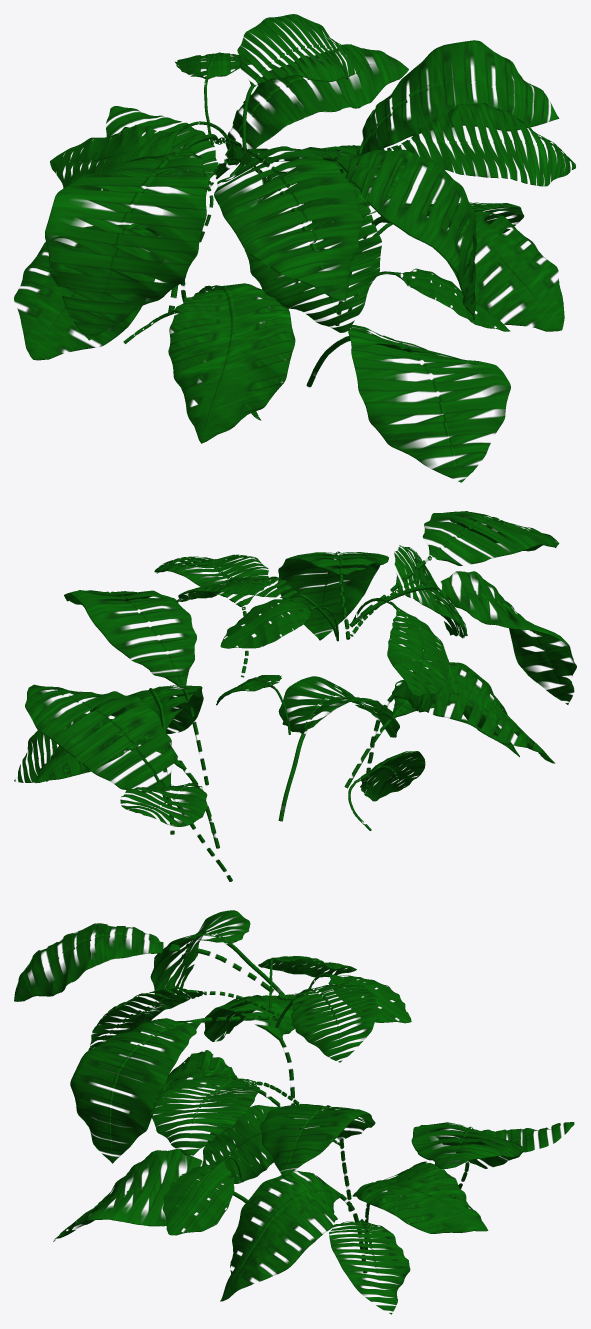
File: dmtreevinesleaves3.glb
3 renders of one model, top to bottom at view 1: azimuth 30°, elevation 25°; view 2: azimuth 150°, elevation 25°; view 3: azimuth 270°, elevation 25°, orthographic. The views are drawn at different scales.
Visible parts, largest first — view 1: leaf_003_mesh.012, leaf_003_mesh.013, leaf_009_mesh.011, leaf_005_mesh.011, leaf_004_mesh.012, leaf_004_mesh.011, leaf_001_mesh.012, leaf_010_mesh.012, leaf_005_mesh.012, leaf_001_mesh.011, leaf_010_mesh.011, leaf_002_mesh.012 (+6 smaller); view 2: leaf_005_mesh.012, leaf_004_mesh.012, leaf_003_mesh.012, leaf_004_mesh.011, leaf_010_mesh.011, leaf_005_mesh.011, leaf_007_mesh.008, leaf_003_mesh.013, leaf_006_mesh.011, leaf_001_mesh.012, leaf_008_mesh.010, leaf_001_mesh.011 (+7 smaller); view 3: leaf_004_mesh.011, leaf_010_mesh.012, leaf_009_mesh.012, leaf_005_mesh.011, leaf_001_mesh.012, leaf_004_mesh.012, leaf_002_mesh.012, leaf_003_mesh.013, leaf_002_mesh.013, leaf_006_mesh.012, leaf_005_mesh.012, leaf_003_mesh.012 (+7 smaller).
Boxes of the visible parts, x1,y1,x2,y2 form: leaf_003_mesh.012: (45, 134, 218, 340); leaf_003_mesh.013: (306, 325, 510, 482); leaf_009_mesh.011: (168, 283, 295, 443); leaf_005_mesh.011: (214, 137, 363, 300); leaf_004_mesh.012: (319, 40, 559, 250); leaf_004_mesh.011: (227, 149, 477, 319); leaf_001_mesh.012: (320, 103, 575, 186); leaf_010_mesh.012: (335, 206, 564, 331); leaf_005_mesh.012: (168, 44, 408, 312); leaf_001_mesh.011: (224, 157, 381, 332); leaf_010_mesh.011: (14, 223, 186, 360); leaf_002_mesh.012: (237, 14, 364, 155); leaf_005_mesh.012: (25, 684, 232, 881); leaf_004_mesh.012: (64, 590, 208, 785); leaf_003_mesh.012: (349, 571, 576, 704); leaf_004_mesh.011: (277, 551, 388, 640); leaf_010_mesh.011: (365, 660, 555, 787); leaf_005_mesh.011: (351, 511, 559, 622); leaf_007_mesh.008: (352, 598, 449, 696); leaf_003_mesh.013: (278, 676, 399, 821); leaf_006_mesh.011: (220, 598, 338, 648); leaf_001_mesh.012: (154, 554, 269, 677); leaf_008_mesh.010: (120, 782, 214, 832); leaf_001_mesh.011: (350, 545, 467, 638); leaf_004_mesh.011: (70, 1015, 279, 1163); leaf_010_mesh.012: (220, 1170, 367, 1301); leaf_009_mesh.012: (352, 1161, 488, 1253); leaf_005_mesh.011: (14, 923, 284, 1001); leaf_001_mesh.012: (150, 1074, 299, 1155); leaf_004_mesh.012: (260, 1104, 375, 1211); leaf_002_mesh.012: (275, 983, 377, 1062); leaf_003_mesh.013: (53, 1148, 248, 1241); leaf_002_mesh.013: (329, 1219, 410, 1314); leaf_006_mesh.012: (162, 1156, 243, 1235); leaf_005_mesh.012: (411, 1122, 525, 1198); leaf_003_mesh.012: (150, 910, 288, 1001).
Bounding box in the file's own units: 1.07 × 0.587 × 1.15.
1 material, 1 textured.
